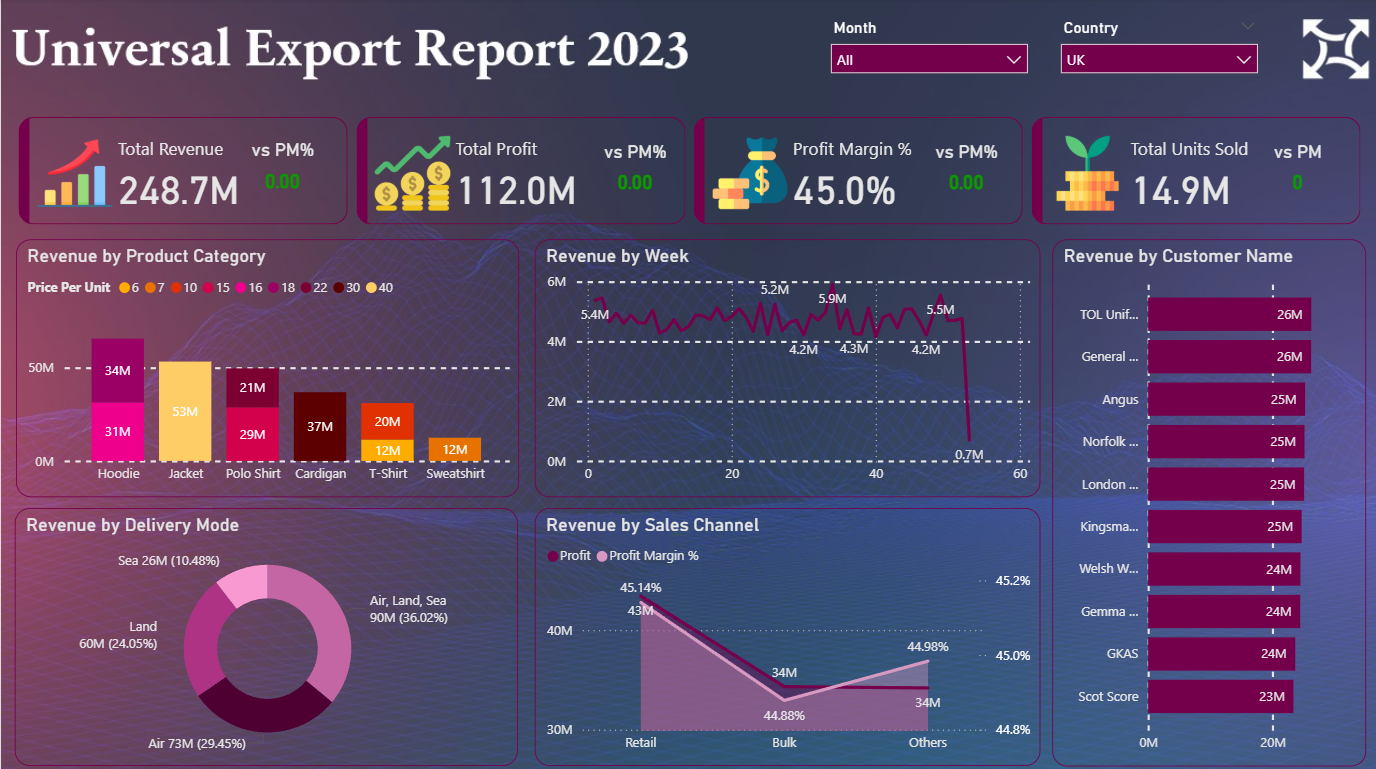

Layout of this report page (visuals, bound fields, positions):
{"tool":"powerbi","page":{"name":"Home","canvas":[1280,720],"ordinal":1},"visuals":[{"type":"slicer","fields":{"Values":["Transactions.MonthName"]},"box":[761.3,14.3,203.4,69.9],"z":0},{"type":"slicer","fields":{"Values":["Transactions.SHIPMENT_COUNTRY"]},"box":[975.9,14.3,203.4,69.9],"z":1000},{"type":"columnChart","title":"Revenue by Product Category","fields":{"Category":["Products.PRODUCT_CATEGORY"],"Y":["Key_measures (2).Total Revenue"],"Series":["Products.PRICE_PER_UNIT"]},"box":[14,224,468,240],"z":2000},{"type":"areaChart","title":"Revenue by Sales Channel","fields":{"Y":["Transactions.PRODUCT_PROFIT"],"Category":["Customers.business_category"],"Y2":["Key_measures (2).Profit Margin %"]},"box":[496,474,470,240],"z":3000},{"type":"clusteredBarChart","title":"Revenue by Customer Name","fields":{"Y":["Key_measures (2).Total Revenue"],"Category":["Customers.customer_name"]},"box":[978,224,292,490],"z":4000},{"type":"cardVisual","fields":{"Data":["Key_measures (2).Total Revenue","Key_measures (2).Total Profit","Key_measures (2).Profit Margin %","Key_measures (2).Total Units Sold"]},"box":[12,106,1258,110],"z":5000},{"type":"card","title":"vs PM%","fields":{"Values":["Key_measures (2).Revenue MoM %"]},"box":[221.7,131.7,80,60],"z":6000},{"type":"lineChart","title":"Revenue by Week","fields":{"Y":["Key_measures (2).Total Revenue"],"Category":["Transactions.Week"]},"box":[496,224,470,240],"z":7000},{"type":"card","title":"vs PM%","fields":{"Values":["Key_measures (2).Profit MoM %"]},"box":[550,132,80,60],"z":8000},{"type":"card","title":"vs PM%","fields":{"Values":["Key_measures (2).Profit Margin MoM %"]},"box":[858,132,80,60],"z":9000},{"type":"card","title":"vs PM","fields":{"Values":["Key_measures (2).Units Sold MoM"]},"box":[1166,132,80,60],"z":10000},{"type":"donutChart","title":"Revenue by Delivery Mode","fields":{"Category":["Logistics.LOGISTIC_TYPE"],"Y":["Key_measures (2).Total Revenue"]},"box":[12.2,474.4,467.8,240],"z":11000}]}

Visuals, with their boxes in screenshot pixels (x1, y1, x2, y2), scaled from the page's 1280x720 canvas onto the 1376x769 screenshot:
slicer - Transactions.MonthName: crop(818, 15, 1037, 90)
slicer - Transactions.SHIPMENT_COUNTRY: crop(1049, 15, 1268, 90)
"Revenue by Product Category" columnChart: crop(15, 239, 518, 496)
"Revenue by Sales Channel" areaChart: crop(533, 506, 1038, 763)
"Revenue by Customer Name" clusteredBarChart: crop(1051, 239, 1365, 763)
cardVisual - Key_measures (2).Total Revenue x Key_measures (2).Total Profit: crop(13, 113, 1365, 231)
"vs PM%" card: crop(238, 141, 324, 205)
"Revenue by Week" lineChart: crop(533, 239, 1038, 496)
"vs PM%" card: crop(591, 141, 677, 205)
"vs PM%" card: crop(922, 141, 1008, 205)
"vs PM" card: crop(1253, 141, 1339, 205)
"Revenue by Delivery Mode" donutChart: crop(13, 507, 516, 763)
